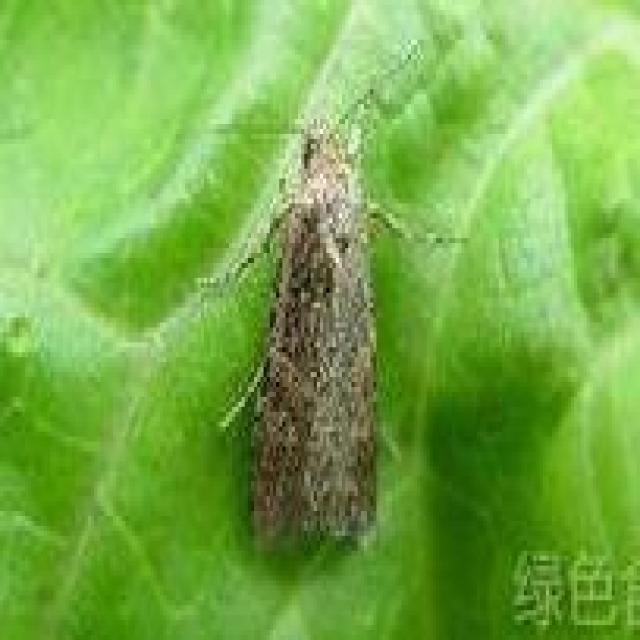BeetArmyWorm-Adult-: (184, 38, 465, 558)
